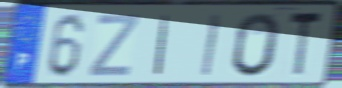6: (46, 10, 86, 81)
I: (200, 12, 225, 78), (152, 13, 172, 77)
O: (231, 10, 281, 79)
T: (288, 9, 324, 80)
Z: (86, 13, 142, 78)
